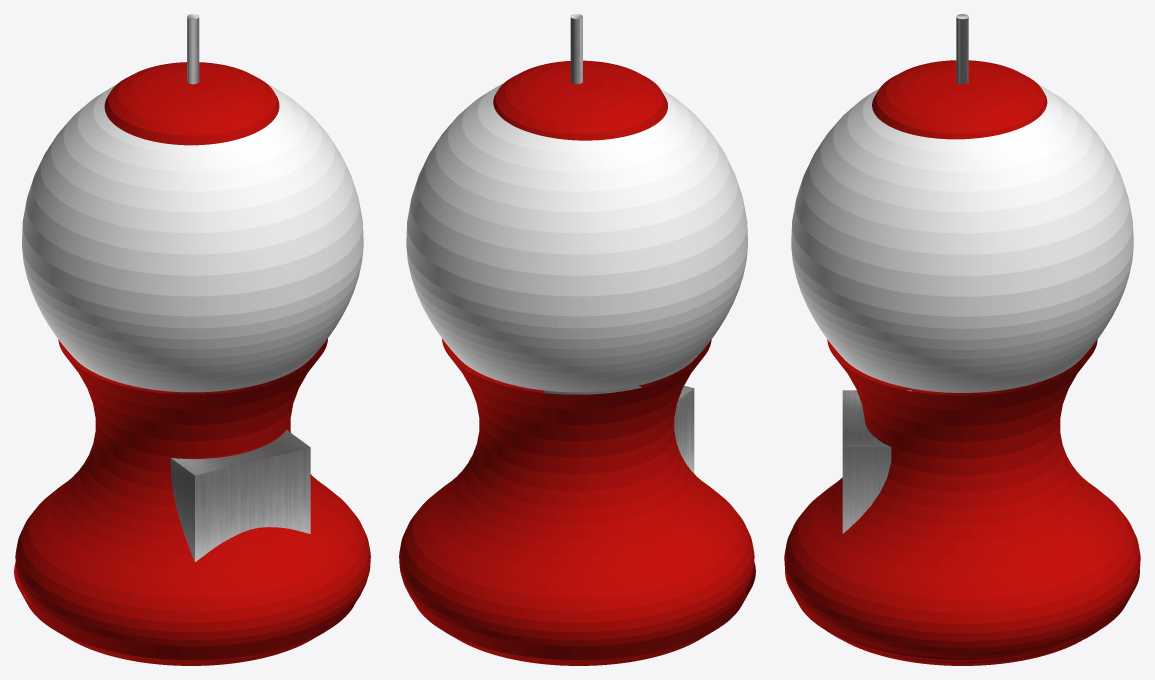
File: dulces.glb
The picture shows the model from 3 angles, left to right: view 1: azimuth 30°, elevation 25°; view 2: azimuth 150°, elevation 25°; view 3: azimuth 270°, elevation 25°; orthographic projection.
Parts seen in each view (by area): view 1: BezierCurve, BezierCurve.001, Cube, BezierCurve.003, BezierCurve.002, Cylinder; view 2: BezierCurve, BezierCurve.001, BezierCurve.003, BezierCurve.002, Cube, Cylinder; view 3: BezierCurve, BezierCurve.001, BezierCurve.003, Cube, BezierCurve.002, Cylinder.
Boxes of the visible parts, bbox=[...] form: BezierCurve: bbox=[22, 84, 363, 392]; BezierCurve.001: bbox=[15, 338, 370, 646]; Cube: bbox=[170, 430, 310, 561]; BezierCurve.003: bbox=[104, 62, 279, 145]; BezierCurve.002: bbox=[14, 562, 357, 665]; Cylinder: bbox=[187, 14, 199, 84]; BezierCurve: bbox=[406, 83, 747, 392]; BezierCurve.001: bbox=[399, 338, 754, 646]; BezierCurve.003: bbox=[493, 60, 667, 140]; BezierCurve.002: bbox=[412, 562, 755, 665]; Cube: bbox=[544, 385, 694, 473]; Cylinder: bbox=[570, 14, 582, 84]; BezierCurve: bbox=[791, 84, 1133, 392]; BezierCurve.001: bbox=[784, 339, 1140, 663]; BezierCurve.003: bbox=[872, 60, 1047, 139]; Cube: bbox=[842, 390, 911, 533]; BezierCurve.002: bbox=[785, 570, 1139, 665]; Cylinder: bbox=[956, 14, 968, 84].
Bounding box in the file's own units: 4.37 × 8.23 × 4.35.
Materials: 6 (5 with a texture image).
